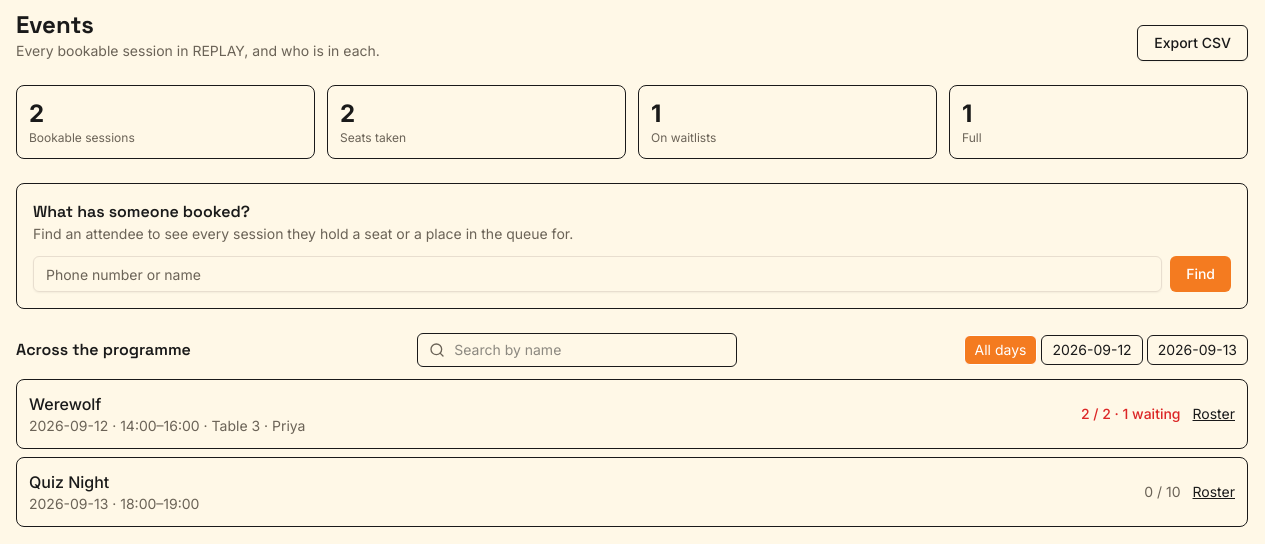
Scenario: finding a session by name › says nothing matched rather than claiming no session is bookable
expect the text "Werewolf" is shown: met, box [29,394,101,414]
Type "chess" into the search field named "Search sessions".
click(577, 350); type("chess")  # box [417,333,737,367]
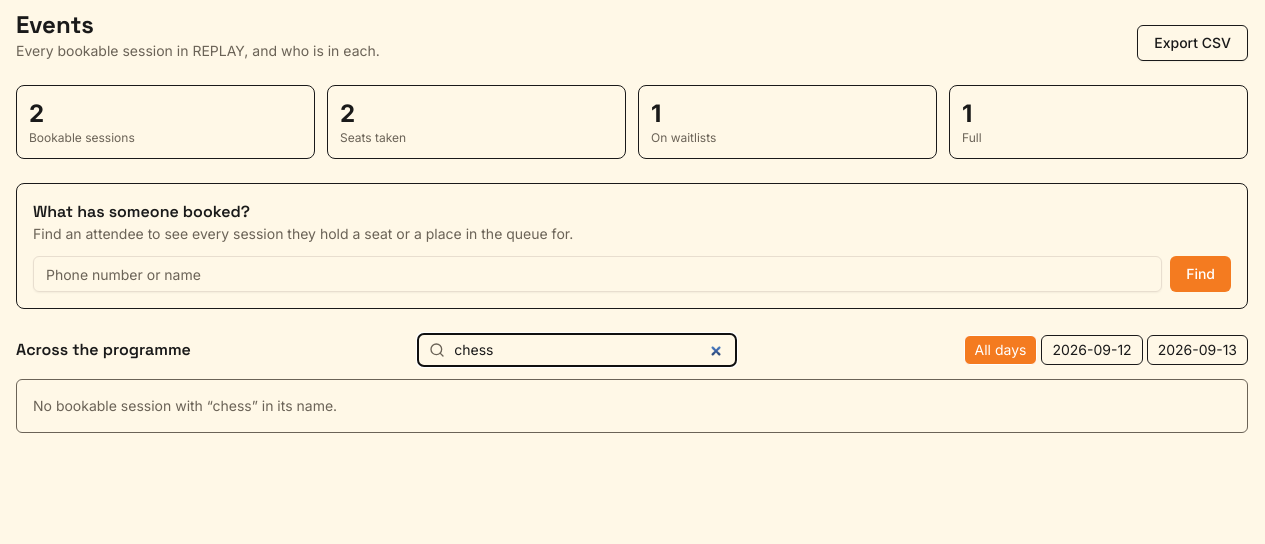
expect the text "No bookable session with “chess” in its name." is shown: met, box [16,379,1248,433]
